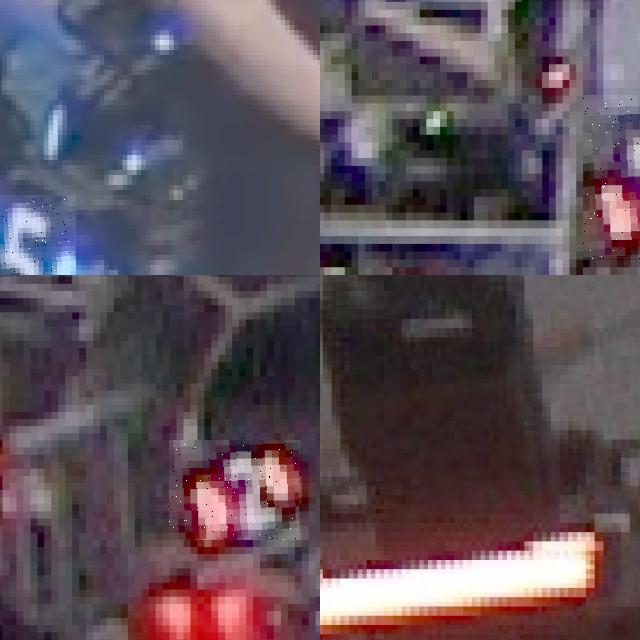B5: (0, 195, 76, 275)
R1: (583, 95, 640, 259)
R2: (170, 440, 302, 540)
